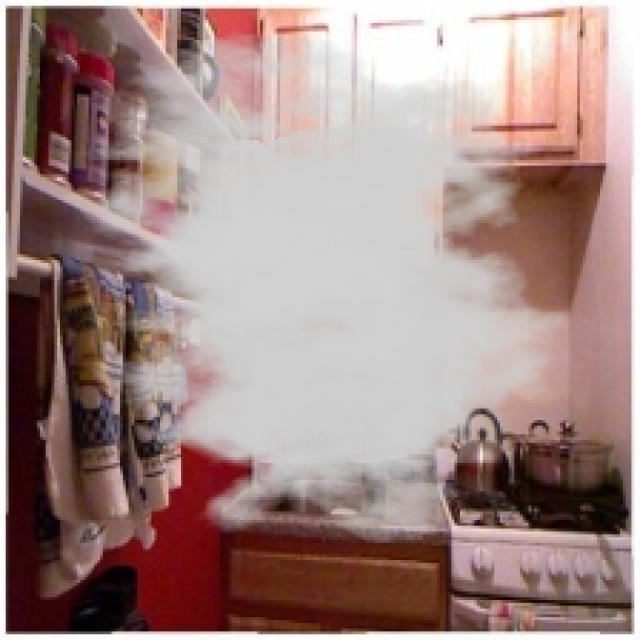smoke: (31, 31, 580, 546)
